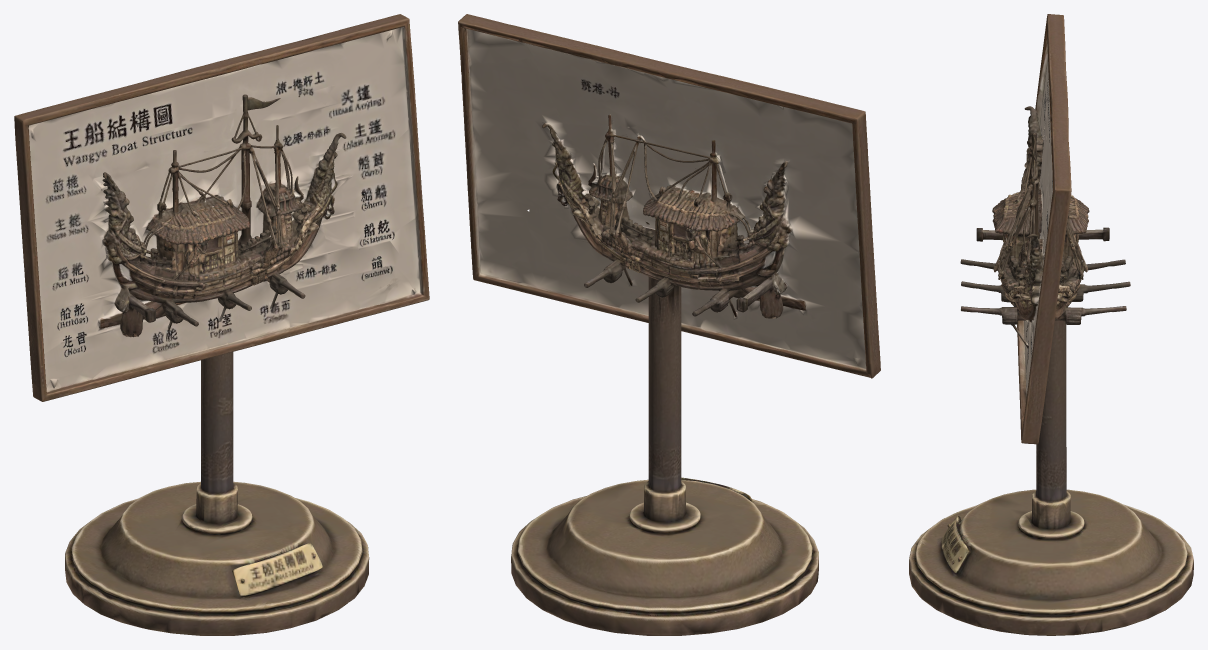
Rendered from P07_Boat_Structure_Diagram-v1.glb.
3 views of the same model, side by side, from view 1: azimuth 30°, elevation 25°; view 2: azimuth 150°, elevation 25°; view 3: azimuth 270°, elevation 25° (orthographic). The views are drawn at different scales.
Parts seen in each view (by area): view 1: tripo_node_cf049efd-c438-4c89-810b-2d0386522ca6; view 2: tripo_node_cf049efd-c438-4c89-810b-2d0386522ca6; view 3: tripo_node_cf049efd-c438-4c89-810b-2d0386522ca6.
Boxes of the visible parts, x1,y1,x2,y2 form: tripo_node_cf049efd-c438-4c89-810b-2d0386522ca6: (14, 14, 429, 635); tripo_node_cf049efd-c438-4c89-810b-2d0386522ca6: (458, 14, 880, 635); tripo_node_cf049efd-c438-4c89-810b-2d0386522ca6: (909, 14, 1193, 635).
Size of the model in its own units: 0.7989 by 0.9802 by 0.5322.
Materials: 1 (1 with a texture image).
